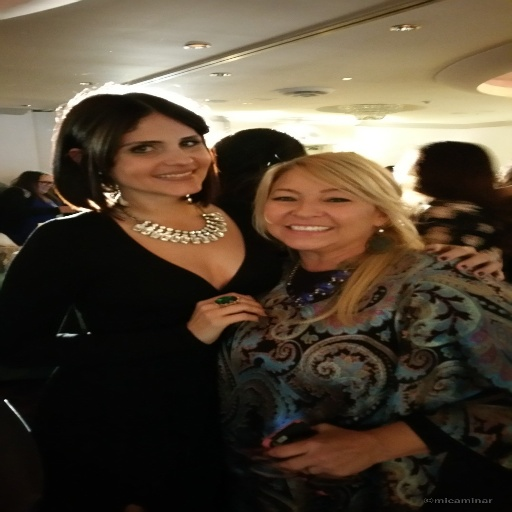hand: (255, 418, 387, 478), (175, 293, 270, 342), (423, 242, 505, 281), (56, 204, 76, 214)
